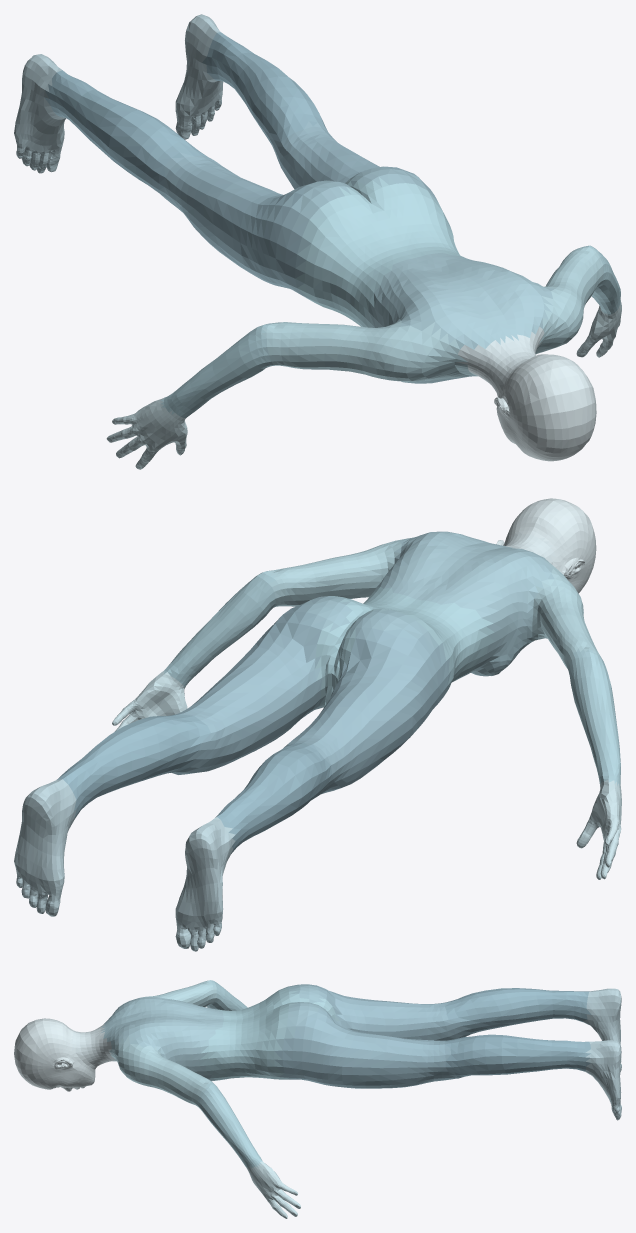
The model's file is crew_C10.glb.
The picture shows the model from 3 angles, top to bottom: view 1: azimuth 30°, elevation 25°; view 2: azimuth 150°, elevation 25°; view 3: azimuth 270°, elevation 25°; orthographic projection. The views are drawn at different scales.
Visible parts, largest first — view 1: chest, abdomen, right_thigh, right_upper_arm, head, right_lower_leg, left_lower_leg, right_foot, left_upper_arm, left_thigh, right_forearm, left_foot (+5 smaller); view 2: right_thigh, left_thigh, abdomen, left_lower_leg, chest, right_lower_leg, left_foot, right_foot, left_upper_arm, head, left_forearm, right_forearm (+5 smaller); view 3: left_thigh, chest, abdomen, left_lower_leg, right_lower_leg, right_thigh, head, left_upper_arm, left_forearm, left_foot, right_foot, left_hand (+4 smaller).
Part boxes in pixels (box(x1,y1,x2,y2)): chest: box(295, 175, 463, 327); abdomen: box(369, 253, 554, 383); right_thigh: box(159, 152, 313, 298); right_upper_arm: box(261, 321, 477, 381); head: box(494, 354, 596, 461); right_lower_leg: box(44, 70, 206, 195); left_lower_leg: box(202, 32, 327, 145); right_foot: box(14, 54, 65, 173); left_upper_arm: box(535, 246, 603, 354); left_thigh: box(272, 121, 433, 194); right_forearm: box(160, 323, 274, 417); left_foot: box(175, 14, 223, 139); right_thigh: box(284, 628, 451, 797); left_thigh: box(175, 605, 326, 774); abdomen: box(374, 531, 554, 676); left_lower_leg: box(57, 713, 210, 818); chest: box(315, 587, 494, 709); right_lower_leg: box(215, 742, 332, 853); left_foot: box(14, 779, 76, 916); right_foot: box(175, 817, 235, 951); left_upper_arm: box(266, 538, 410, 606); head: box(496, 498, 596, 593); left_forearm: box(164, 571, 277, 687); right_forearm: box(568, 648, 620, 786); left_thigh: box(274, 1006, 457, 1088); chest: box(199, 986, 339, 1080); abdomen: box(101, 997, 223, 1081); left_lower_leg: box(445, 1034, 590, 1078); right_lower_leg: box(445, 988, 591, 1037); right_thigh: box(309, 984, 470, 1040); head: box(14, 1018, 99, 1091); left_upper_arm: box(109, 1035, 212, 1106); left_forearm: box(197, 1081, 262, 1168); left_foot: box(585, 1040, 621, 1120); right_foot: box(583, 988, 621, 1071); left_hand: box(246, 1160, 300, 1218).
Size of the model in its own units: 1 by 0.428 by 1.59.
